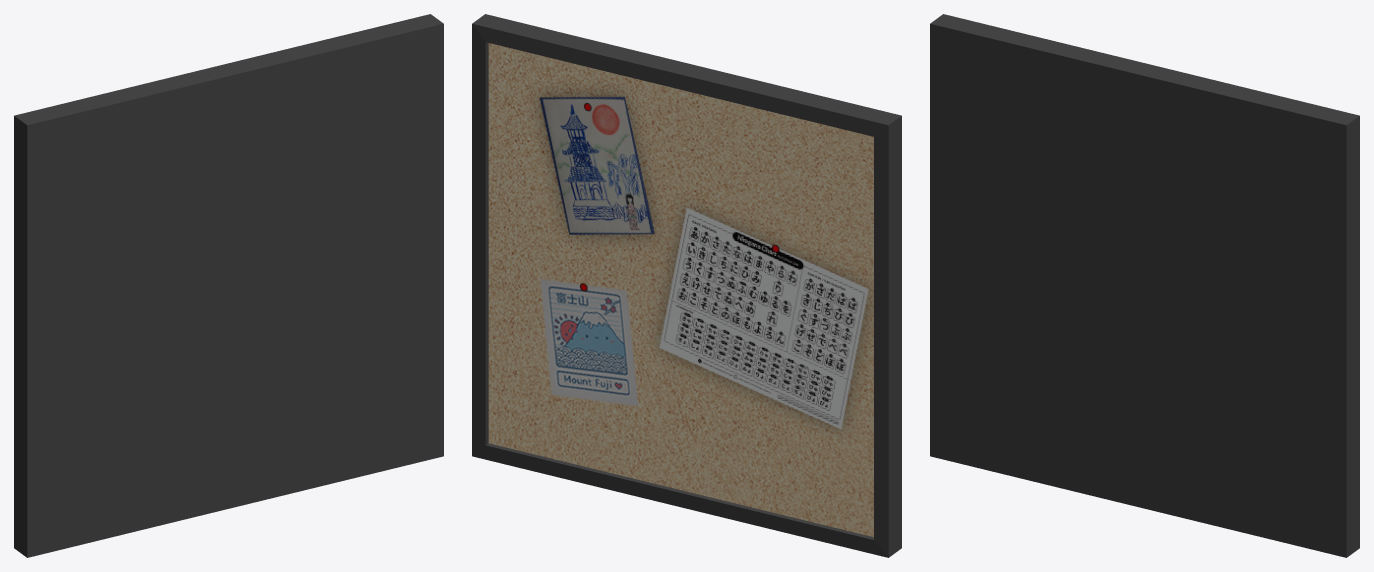
The model's file is SCH0110003.fbx.
3 views of the same model, side by side, from view 1: azimuth 30°, elevation 25°; view 2: azimuth 150°, elevation 25°; view 3: azimuth 330°, elevation 25° (orthographic).
Visible parts, largest first — view 1: smSCH0110003; view 2: smSCH0110003; view 3: smSCH0110003.
Boxes of the visible parts, x1,y1,x2,y2 form: smSCH0110003: (14, 14, 443, 557); smSCH0110003: (472, 14, 901, 557); smSCH0110003: (930, 14, 1359, 557).
Bounding box in the file's own units: 144 × 143 × 8.2.
Materials: 1 (1 with a texture image).
